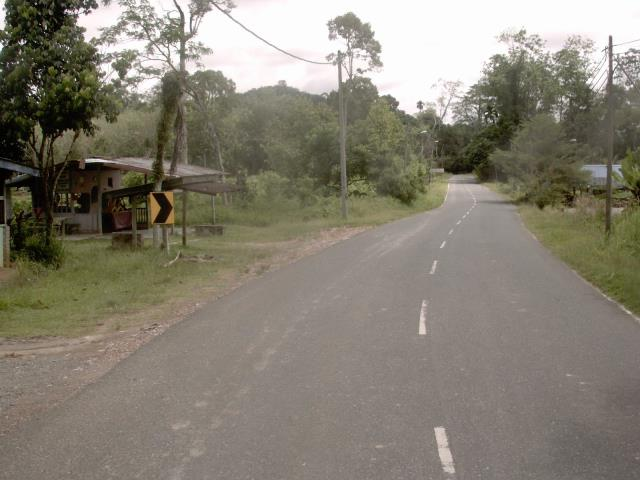traffic_sign: (144, 184, 181, 233)
